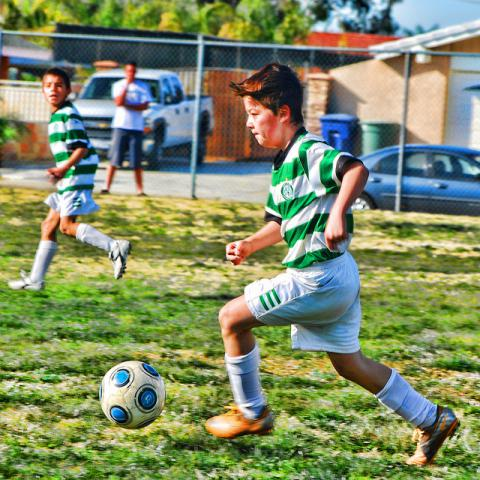car: (350, 142, 480, 218)
truck: (76, 68, 192, 166)
